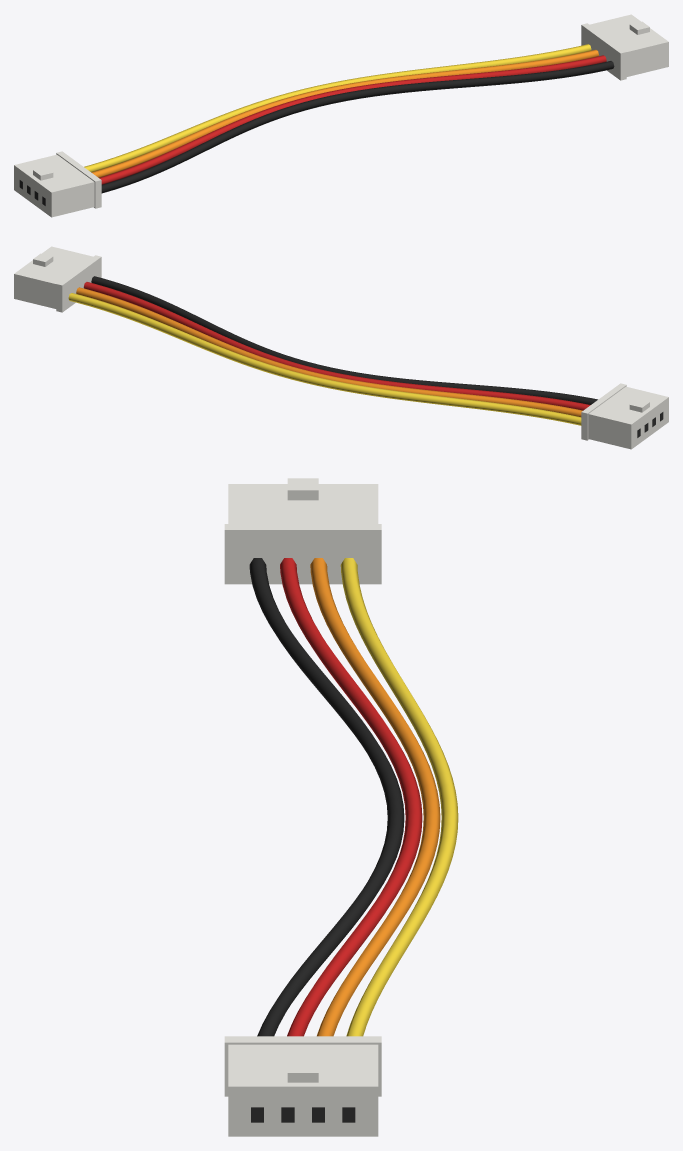
Rendered from jst4.glb.
3 renders of one model, top to bottom at view 1: azimuth 30°, elevation 25°; view 2: azimuth 150°, elevation 25°; view 3: azimuth 270°, elevation 25°, orthographic. The views are drawn at different scales.
Parts seen in each view (by area): view 1: jst4, jst4_plug_a, jst4_plug_b; view 2: jst4, jst4_plug_a, jst4_plug_b; view 3: jst4, jst4_plug_b, jst4_plug_a.
Part boxes in pixels (bbox=[...]): jst4: bbox=[84, 44, 614, 193]; jst4_plug_a: bbox=[14, 151, 101, 217]; jst4_plug_b: bbox=[581, 14, 668, 80]; jst4: bbox=[68, 276, 597, 425]; jst4_plug_a: bbox=[581, 383, 668, 449]; jst4_plug_b: bbox=[14, 246, 101, 312]; jst4: bbox=[249, 558, 458, 1036]; jst4_plug_b: bbox=[224, 1036, 381, 1136]; jst4_plug_a: bbox=[224, 478, 381, 584].
Size of the model in its own units: 0.1191 by 0.0057 by 0.0195.
